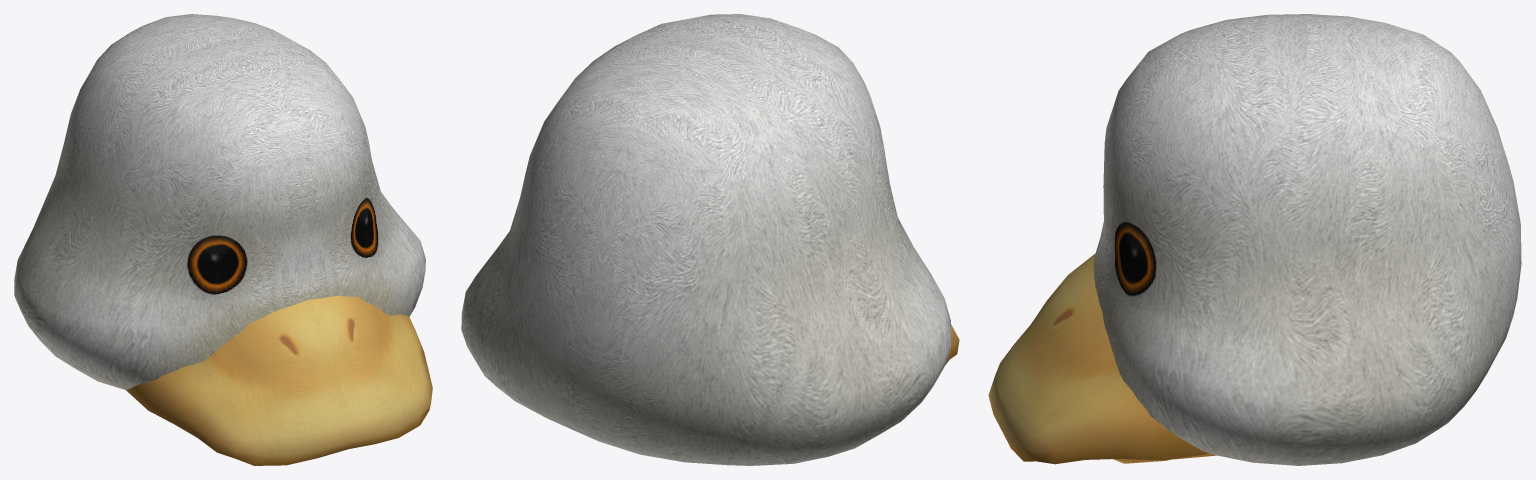
Rendered from CRT0110008.FBX.
The picture shows the model from 3 angles, left to right: view 1: azimuth 30°, elevation 25°; view 2: azimuth 150°, elevation 25°; view 3: azimuth 270°, elevation 25°; orthographic projection. The views are drawn at different scales.
Parts seen in each view (by area): view 1: smCRT0110008; view 2: smCRT0110008; view 3: smCRT0110008.
Part boxes in pixels (x1,y1,x2,y2): smCRT0110008: (14,14,432,465); smCRT0110008: (461,14,959,465); smCRT0110008: (988,14,1521,465).
Bounding box in the file's own units: 0.0703 × 0.0624 × 0.0756.
Materials: 1 (1 with a texture image).
